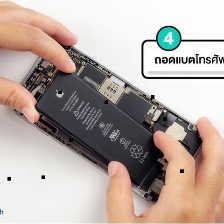phone: (5, 35, 209, 209)
